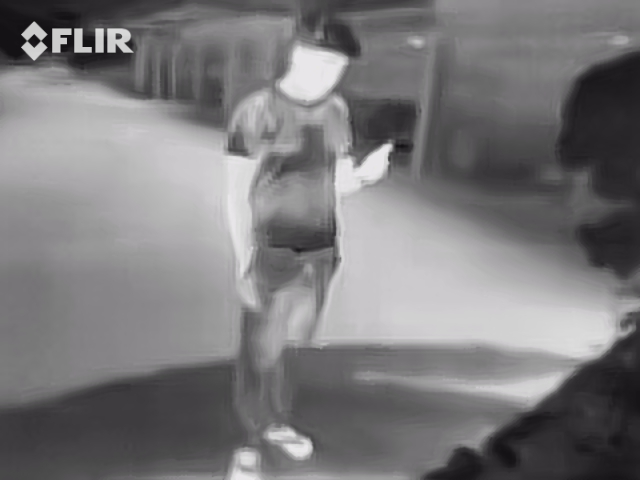head: (276, 19, 349, 96)
